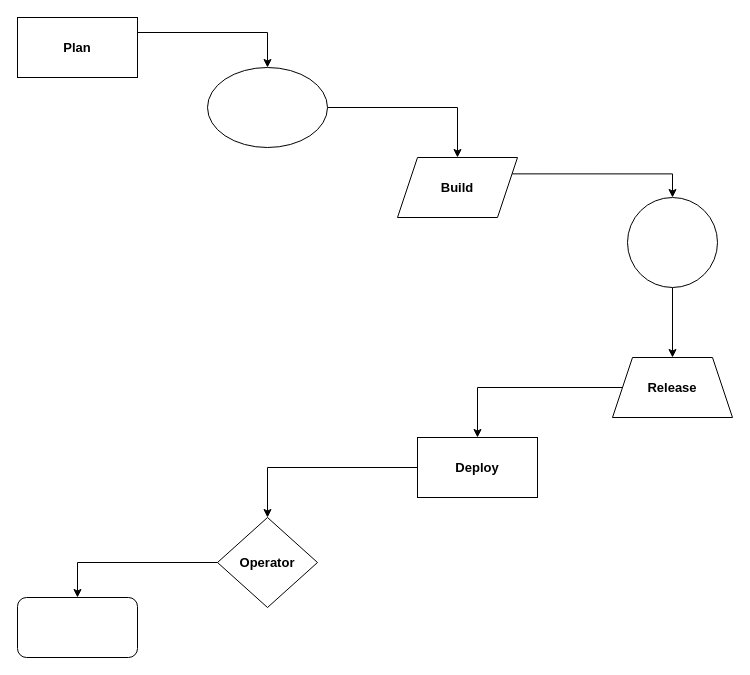
Image size: 750x675. Some labels were removed from this diagram. Here are the shapes that lost their labels. From the top down, the centre of each, then its label:
the point at 267,107: Desktop
the point at 672,242: Text
the point at 77,627: Monitor
